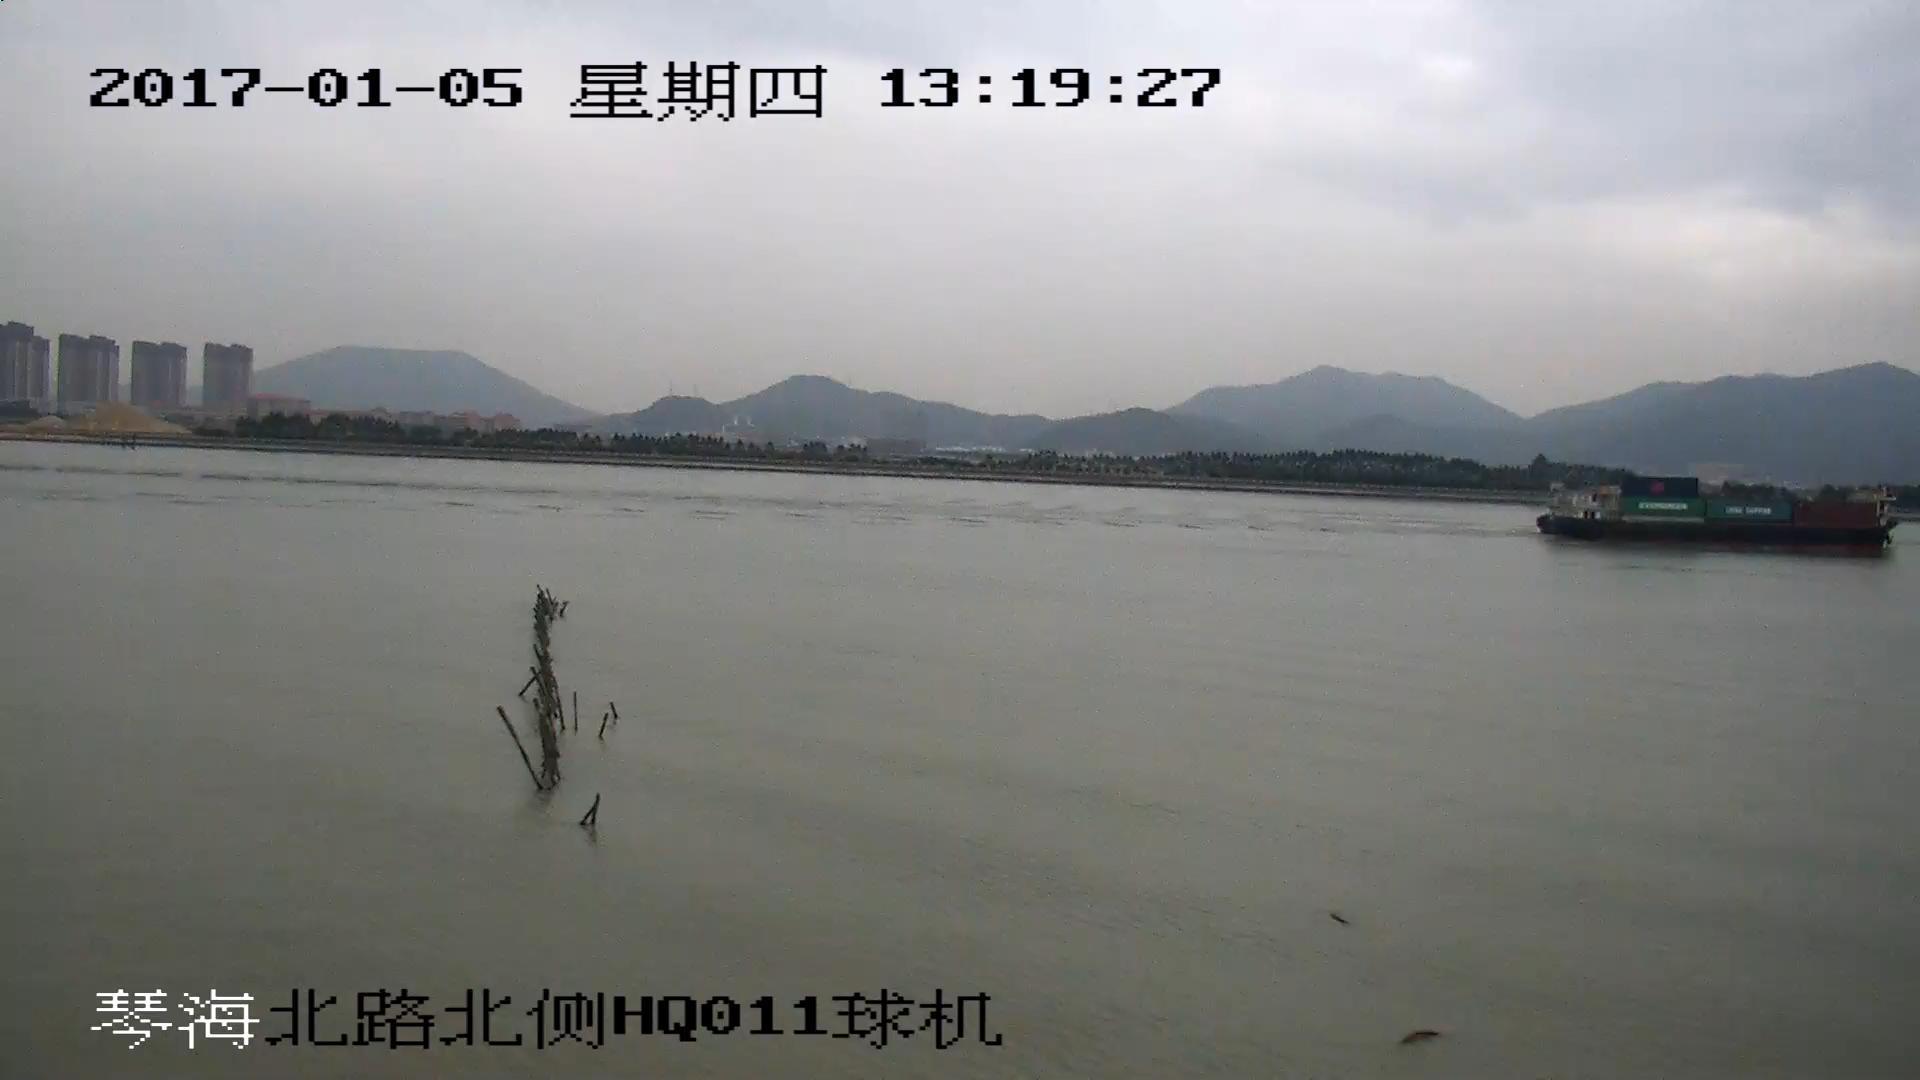container ship: (1538, 477, 1893, 555)
